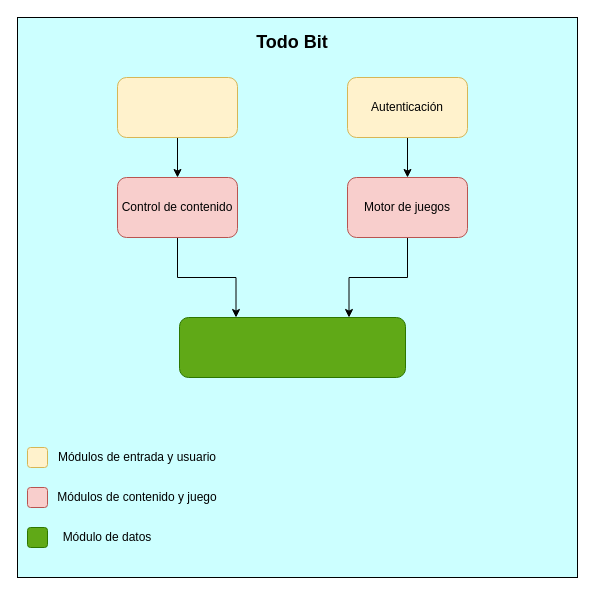
This 595x595 diagram has some shape labels left out. The shapes that lost their labels are listed below. From the top down, each one's box as (x1, y1, x2, y2) in pixels, then its label:
(116, 76, 238, 138): Interfaz web
(178, 316, 406, 378): Perfil y leaderboard
